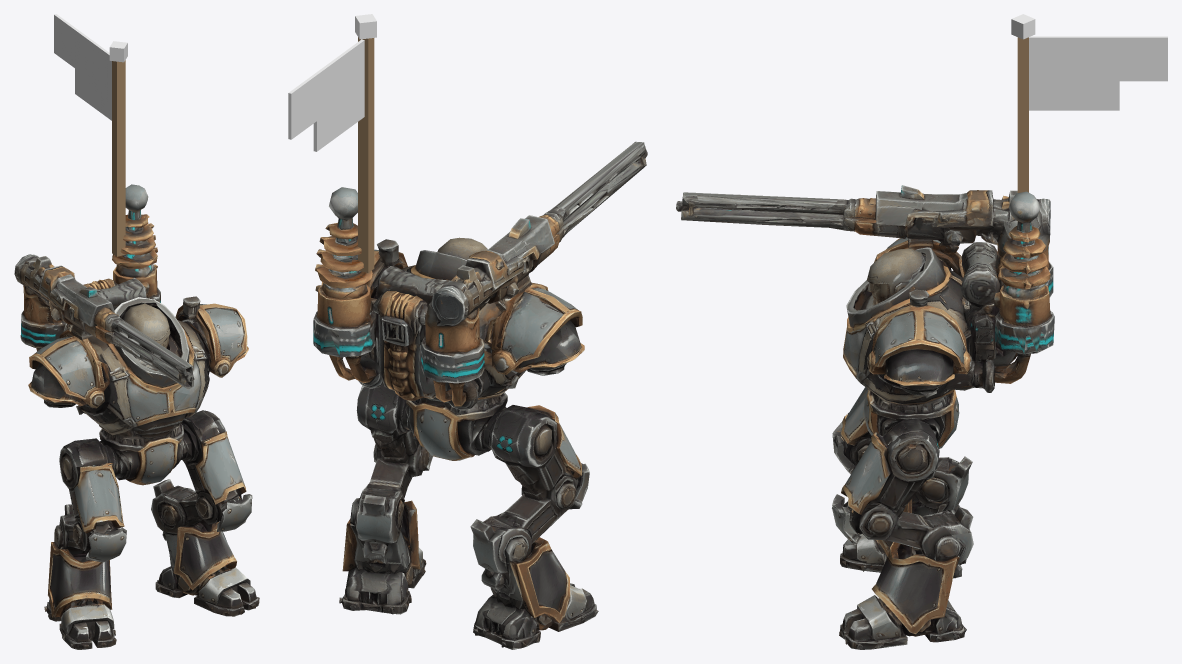
Rendered from storm_walker.glb.
The picture shows the model from 3 angles, left to right: view 1: azimuth 30°, elevation 25°; view 2: azimuth 150°, elevation 25°; view 3: azimuth 270°, elevation 25°; orthographic projection. The views are drawn at different scales.
Parts seen in each view (by area): view 1: storm_walker, Team_pennant; view 2: storm_walker, Team_pennant; view 3: storm_walker, Team_pennant.
Boxes of the visible parts, bbox=[...] form: storm_walker: bbox=[14, 184, 259, 649]; Team_pennant: bbox=[54, 14, 127, 256]; storm_walker: bbox=[313, 141, 647, 649]; Team_pennant: bbox=[288, 14, 376, 272]; storm_walker: bbox=[676, 185, 1054, 649]; Team_pennant: bbox=[1011, 14, 1167, 221].
Size of the model in its own units: 1.11 by 2.63 by 1.97.
3 materials, 1 textured.
